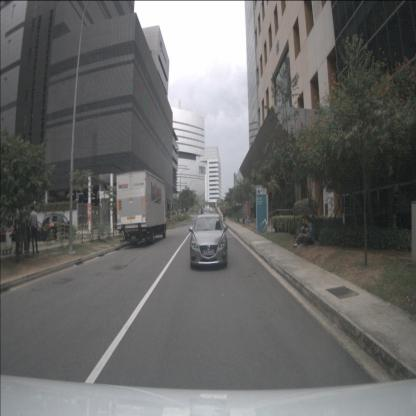human-pedestrian-adult: (293, 216, 315, 248), (29, 205, 40, 255), (294, 216, 309, 247), (20, 203, 29, 253), (222, 204, 226, 221)
vehicle-car: (190, 213, 228, 269), (41, 213, 76, 241)
vehicle-truck: (116, 170, 167, 244)
